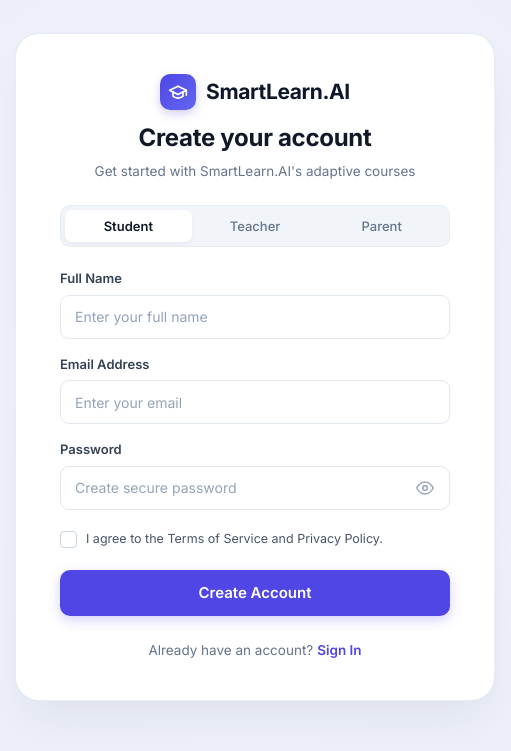
Scenario: RegisterPage Component › validates required fields on submit without input
Click the button "Create Account". click: click(255, 593)
box: x1=60 y1=570 x2=450 y2=616
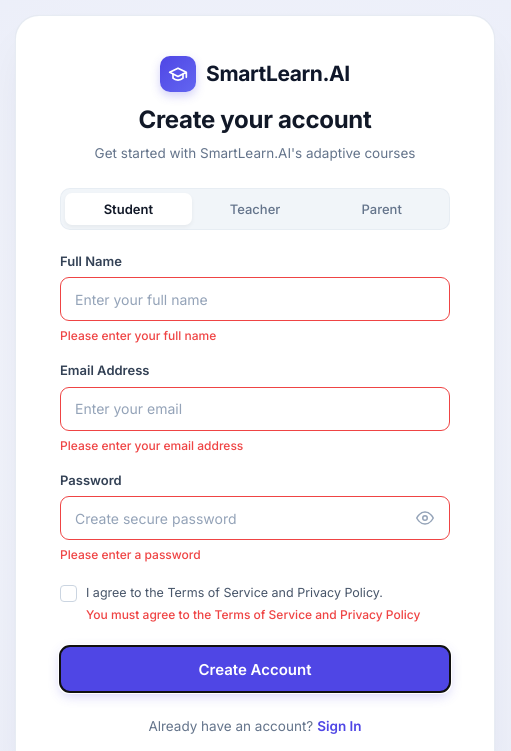
expect the text "Please enter your full name" is shown: met, box x1=60 y1=328 x2=216 y2=343
expect the text "Please enter your email address" is shown: met, box x1=60 y1=438 x2=243 y2=453
expect the text "Please enter a password" is shown: met, box x1=60 y1=547 x2=201 y2=562
